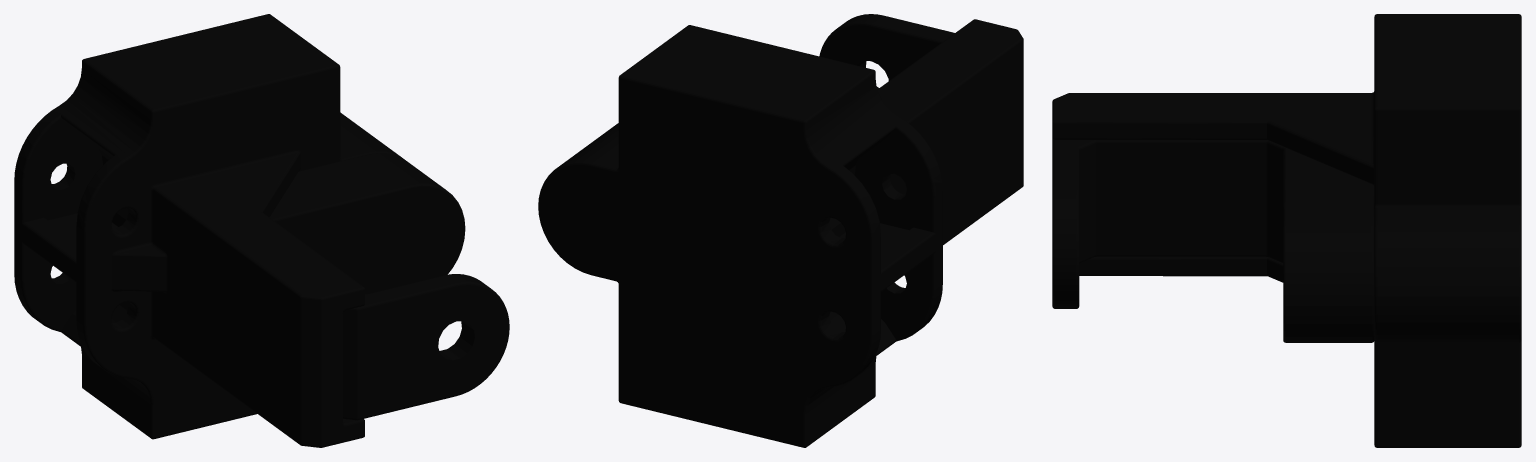
Rendered from arm_distal_link.obj.
The picture shows the model from 3 angles, left to right: view 1: azimuth 30°, elevation 25°; view 2: azimuth 150°, elevation 25°; view 3: azimuth 270°, elevation 25°; orthographic projection. The views are drawn at different scales.
Parts seen in each view (by area): view 1: arm_distal_link; view 2: arm_distal_link; view 3: arm_distal_link.
Part boxes in pixels (x1,y1,x2,y2): arm_distal_link: (14, 14, 509, 447); arm_distal_link: (538, 14, 1023, 447); arm_distal_link: (1052, 14, 1521, 447).
Size of the model in its own units: 0.075 by 0.07 by 0.0874.
Materials: 1 (1 with a texture image).
